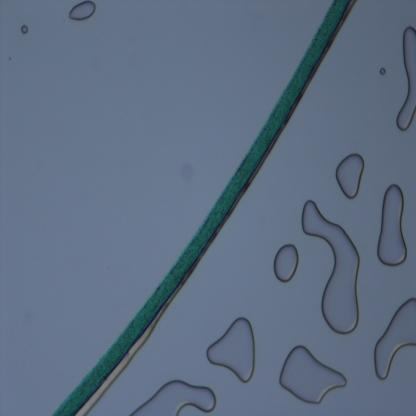Air bubble: (301, 198, 360, 336), (276, 342, 348, 404), (372, 295, 416, 381), (205, 316, 256, 383), (130, 378, 219, 415), (376, 183, 407, 266), (395, 27, 416, 133), (334, 152, 366, 202), (272, 242, 300, 283), (69, 1, 97, 23), (21, 23, 31, 35), (379, 67, 388, 76)
Background material: (178, 159, 194, 184)
Microfibre: (51, 1, 352, 415)
